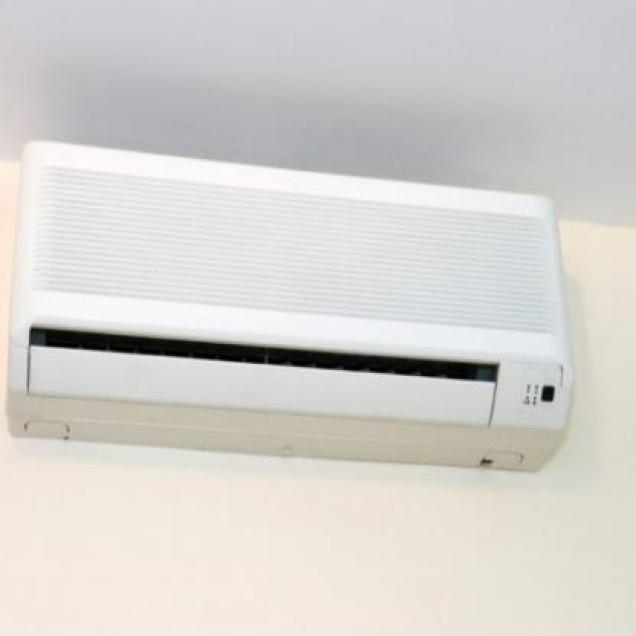AC: (6, 139, 575, 472)
